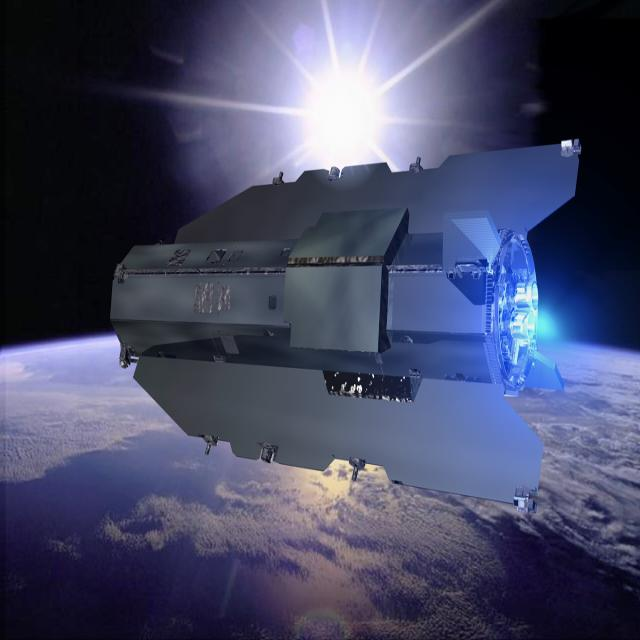satellite: (103, 125, 588, 526)
